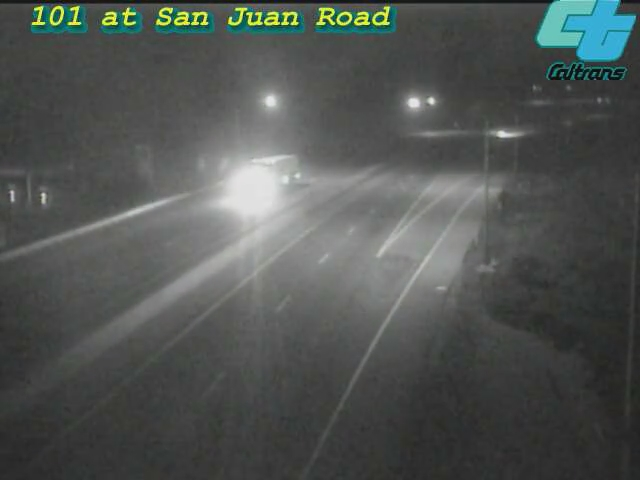vehicle: (226, 138, 306, 218), (478, 109, 528, 159)
